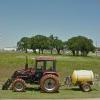Tractor: (4, 49, 72, 97)
